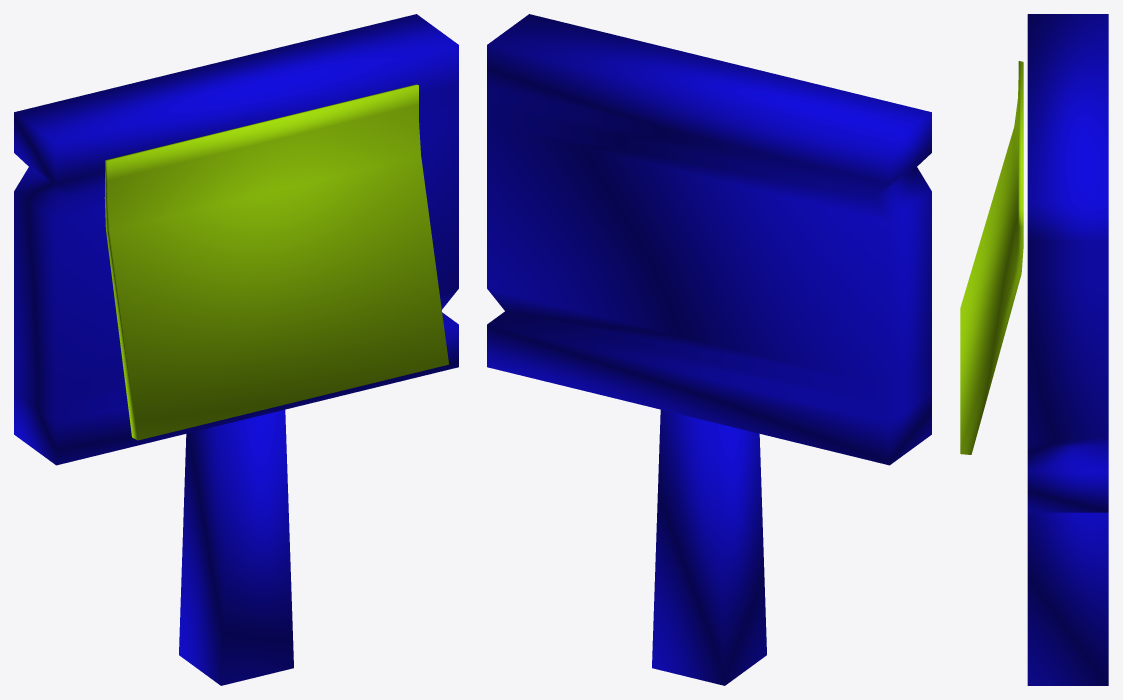
File: cartel.fbx
3 renders of one model, left to right at view 1: azimuth 30°, elevation 25°; view 2: azimuth 150°, elevation 25°; view 3: azimuth 270°, elevation 25°, orthographic. The views are drawn at different scales.
Visible parts, largest first — view 1: Cube; view 2: Cube; view 3: Cube.
Boxes of the visible parts, bbox=[...] form: Cube: bbox=[14, 14, 458, 685]; Cube: bbox=[487, 14, 931, 685]; Cube: bbox=[960, 14, 1108, 685].
Bounding box in the file's own units: 0.778 × 1.08 × 0.2582.
